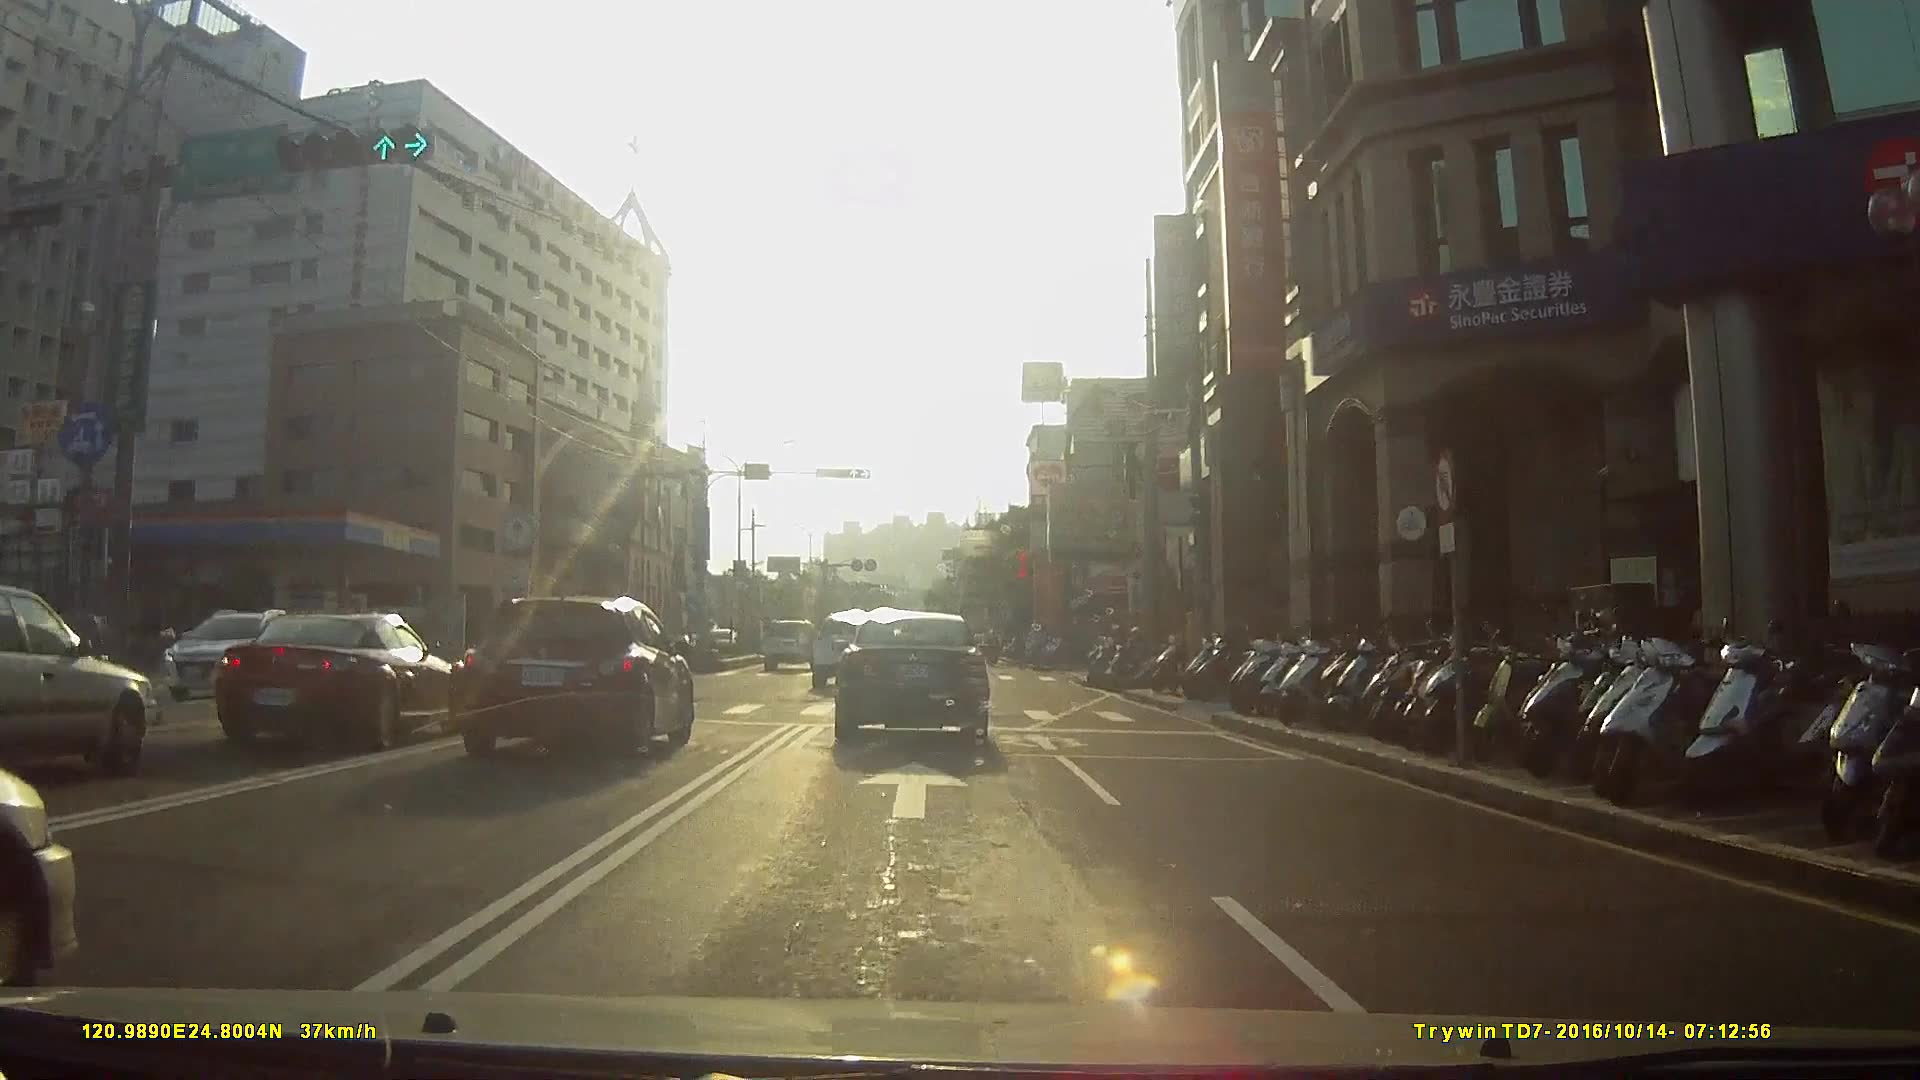rider: (1098, 620, 1174, 686)
vehicle: (450, 585, 709, 763), (187, 604, 469, 763), (1, 584, 166, 784), (829, 606, 1003, 752), (132, 602, 319, 705), (811, 607, 890, 691), (763, 617, 822, 672)
